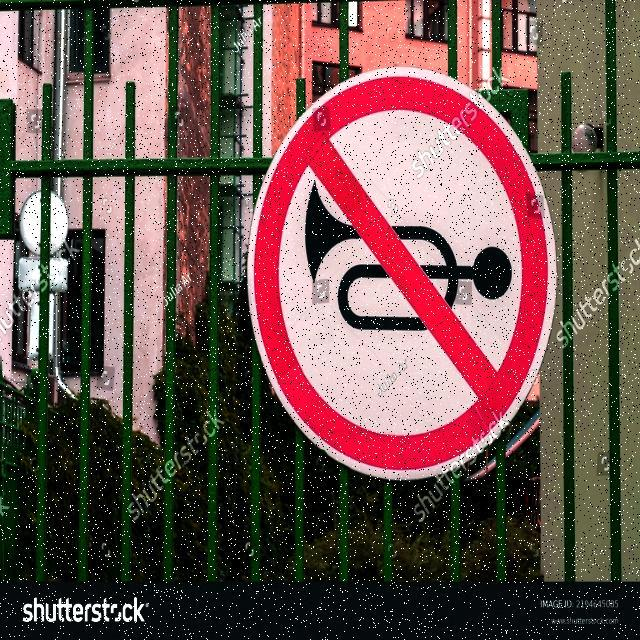Traffic sign: (240, 61, 561, 487)
